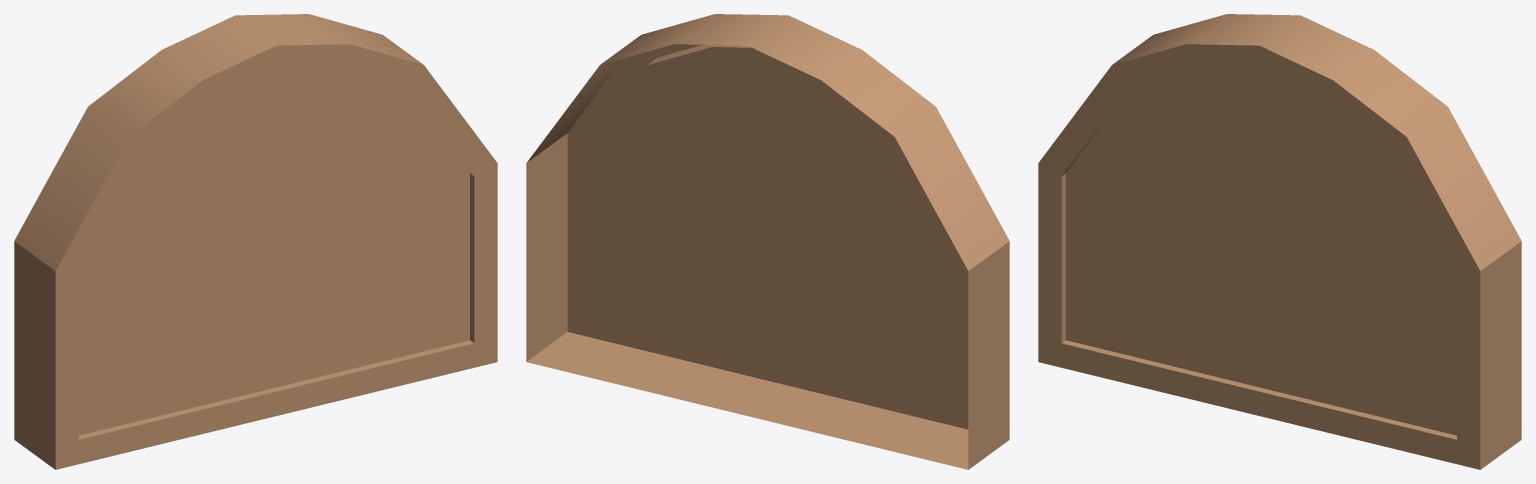
The model's file is Village_Window_C.fbx.
The picture shows the model from 3 angles, left to right: view 1: azimuth 30°, elevation 25°; view 2: azimuth 150°, elevation 25°; view 3: azimuth 330°, elevation 25°; orthographic projection.
Parts seen in each view (by area): view 1: Window_Set_C2.007; view 2: Window_Set_C2.007; view 3: Window_Set_C2.007.
Boxes of the visible parts, x1,y1,x2,y2 form: Window_Set_C2.007: (14,14,497,469); Window_Set_C2.007: (526,14,1009,469); Window_Set_C2.007: (1038,14,1521,469).
Size of the model in its own units: 52.29 by 41.86 by 8.46.
